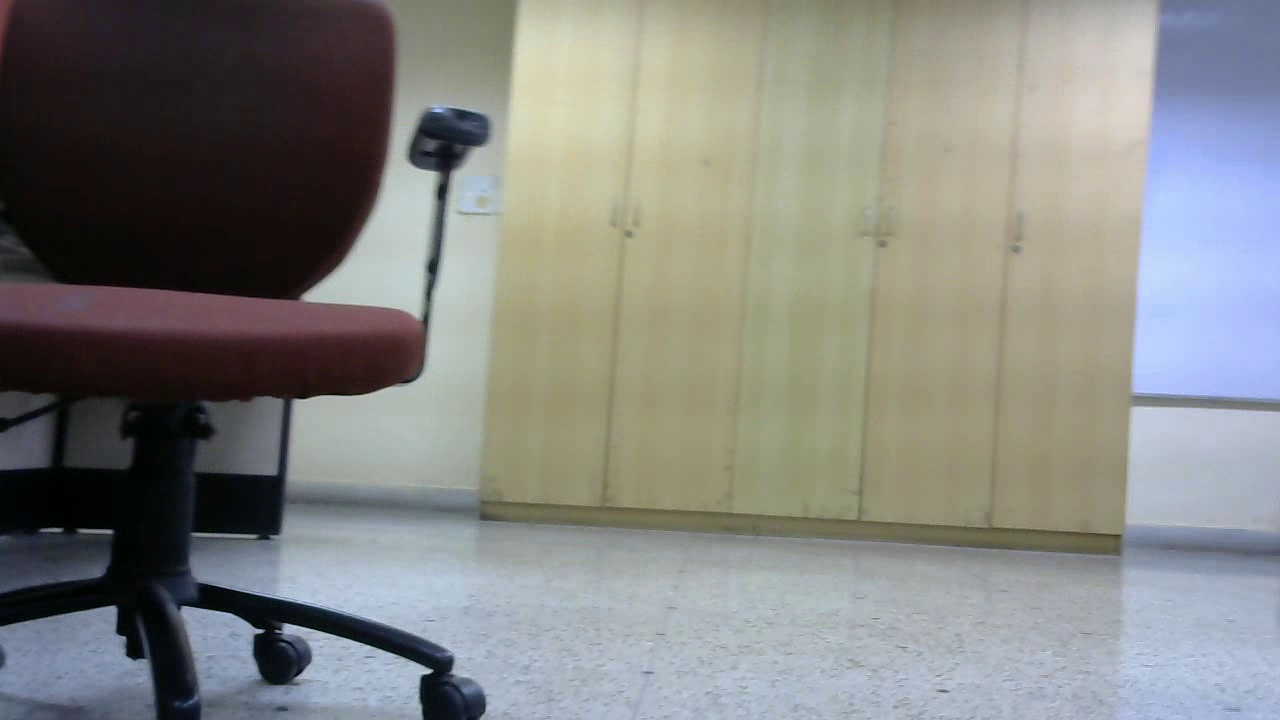chair: (720, 207, 1029, 605), (341, 178, 522, 538)
